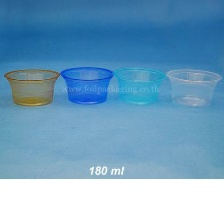glass: (111, 64, 171, 107), (164, 67, 223, 109), (1, 67, 62, 107), (57, 66, 115, 107)
